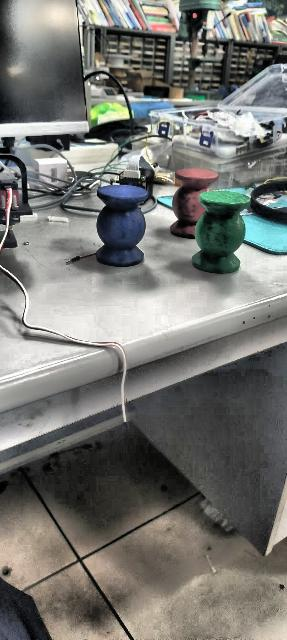blue: (96, 184, 148, 266)
green: (191, 191, 248, 276)
red: (170, 168, 216, 239)
